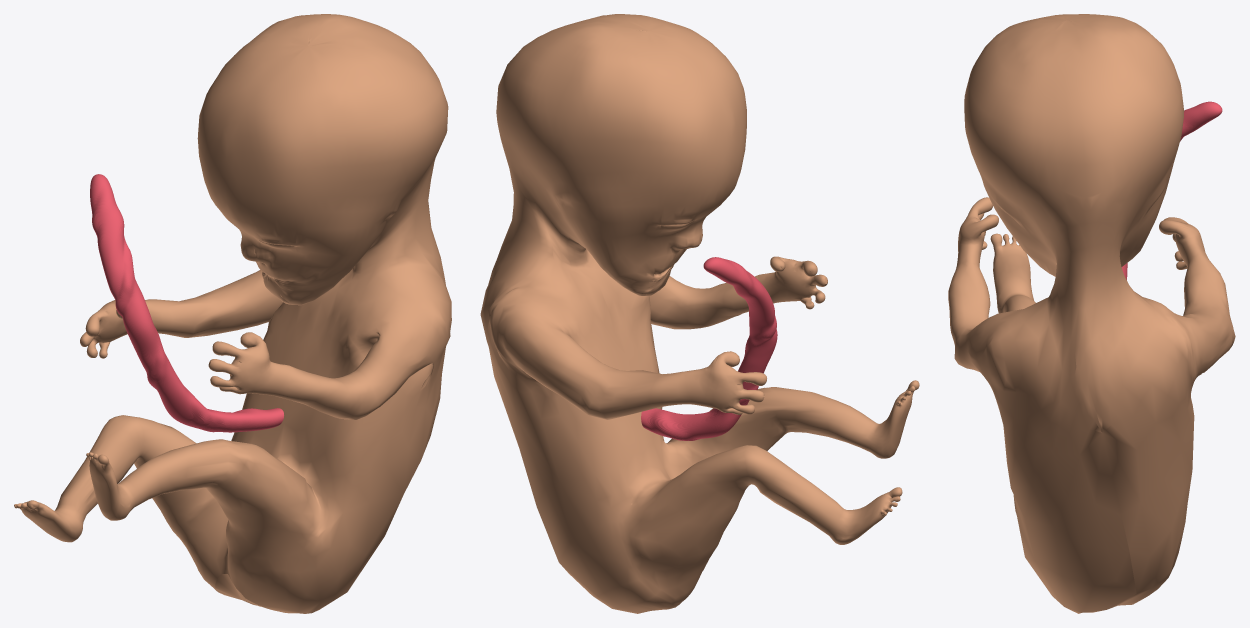
File: asset.glb
3 renders of one model, left to right at view 1: azimuth 30°, elevation 25°; view 2: azimuth 150°, elevation 25°; view 3: azimuth 270°, elevation 25°, orthographic. The views are drawn at different scales.
Visible parts, largest first — view 1: Fetus, Cord; view 2: Fetus, Cord; view 3: Fetus, Cord.
Part boxes in pixels (<box>): Fetus: <box>14,14,451,613</box>; Cord: <box>90,174,283,432</box>; Fetus: <box>480,14,919,613</box>; Cord: <box>641,257,777,440</box>; Fetus: <box>948,14,1235,613</box>; Cord: <box>1121,101,1222,279</box>.
Bounding box in the file's own units: 19.52 × 25.73 × 11.3.
